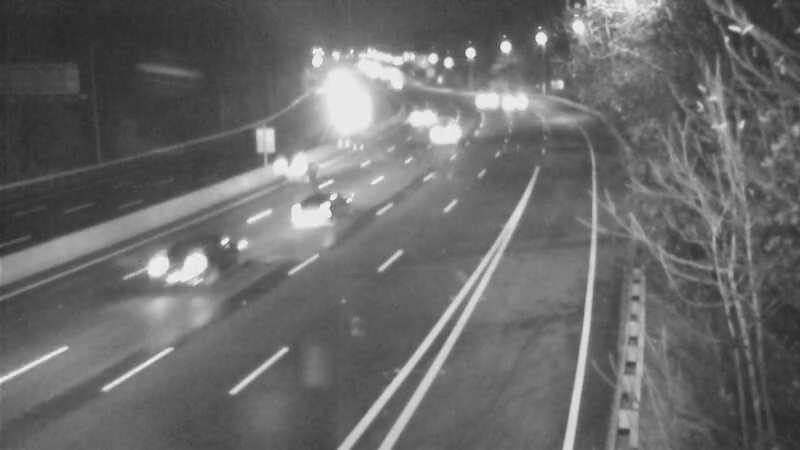vehicle: (245, 130, 325, 210), (272, 169, 352, 249), (130, 230, 210, 310), (453, 75, 503, 125), (491, 76, 541, 126), (394, 91, 444, 141), (419, 112, 469, 162)
